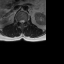CCS_normal: (21, 18, 22, 25)
LFS_normal: (24, 19, 26, 23)
LLS_normal: (22, 18, 24, 24)
RFS_stenosis: (18, 18, 20, 23)
RLS_normal: (20, 18, 21, 24)
